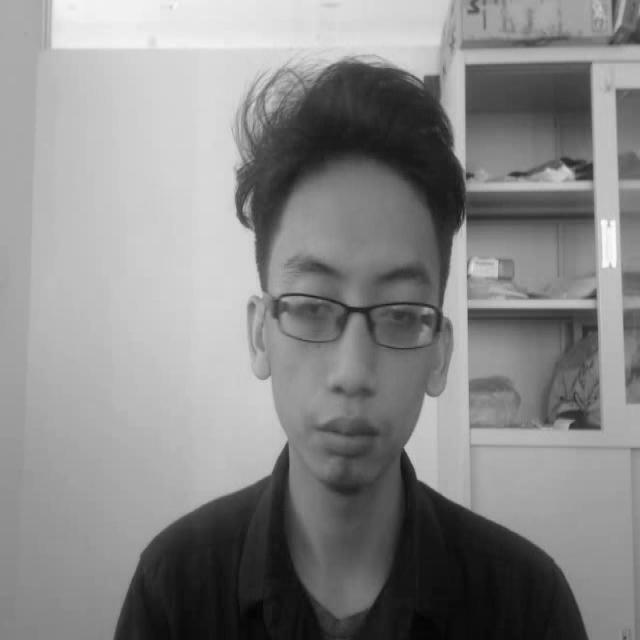real: (210, 42, 478, 505)
